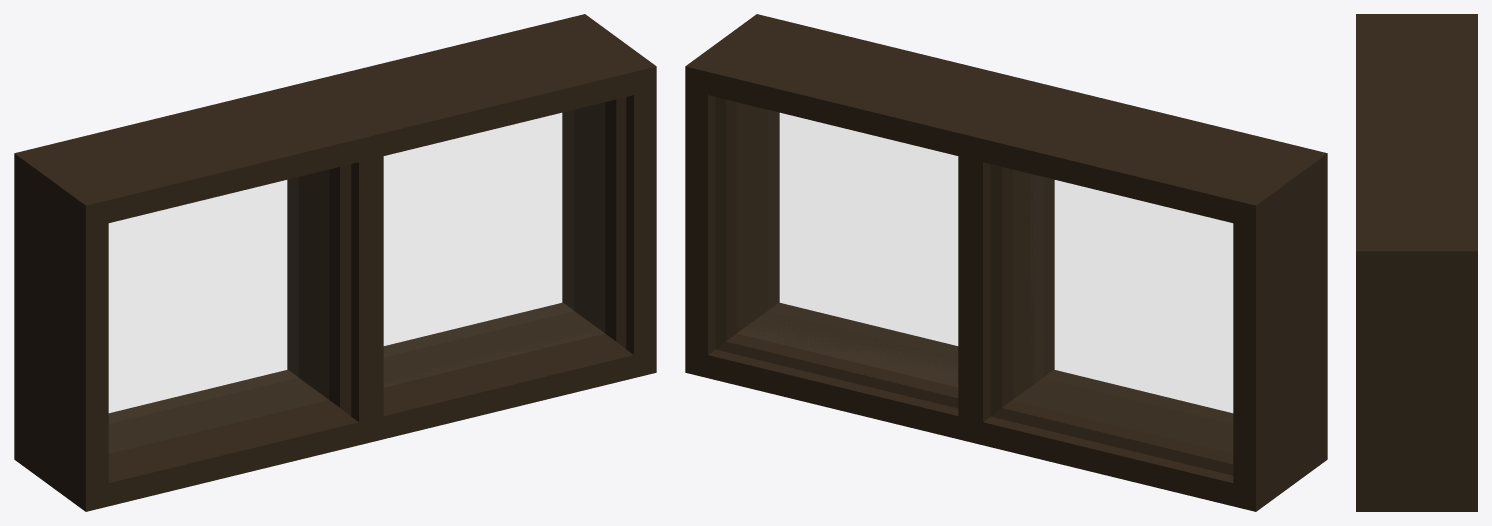
File: Lodge_Bigwindow.fbx
3 renders of one model, left to right at view 1: azimuth 30°, elevation 25°; view 2: azimuth 150°, elevation 25°; view 3: azimuth 270°, elevation 25°, orthographic. The views are drawn at different scales.
Parts seen in each view (by area): view 1: pCube67; view 2: pCube67; view 3: pCube67.
Part boxes in pixels (left/top/right/bottom): pCube67: left=14, top=14, right=656, bottom=511; pCube67: left=685, top=14, right=1327, bottom=511; pCube67: left=1356, top=14, right=1477, bottom=511.
Bounding box in the file's own units: 2.64 × 1.35 × 0.5744.
